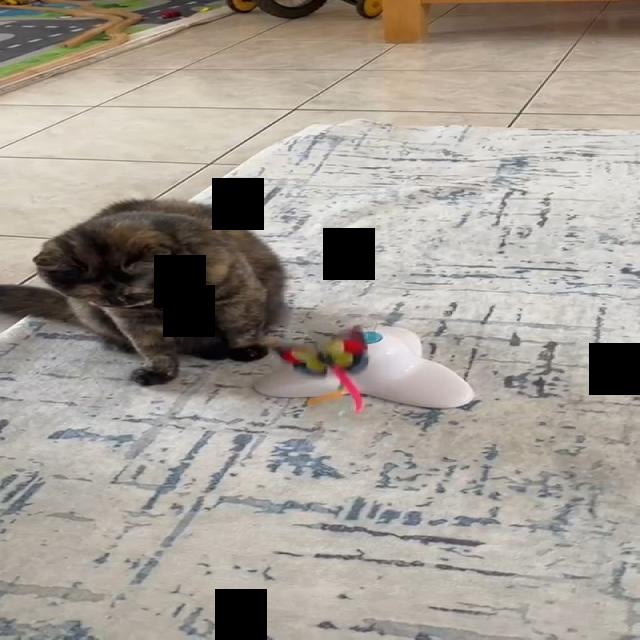authorized: (0, 196, 289, 385)
